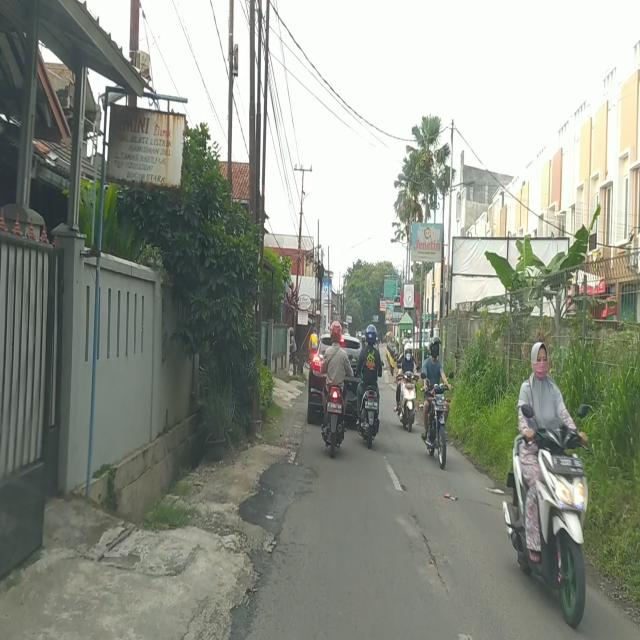Drain Hole: (415, 504, 445, 590)
